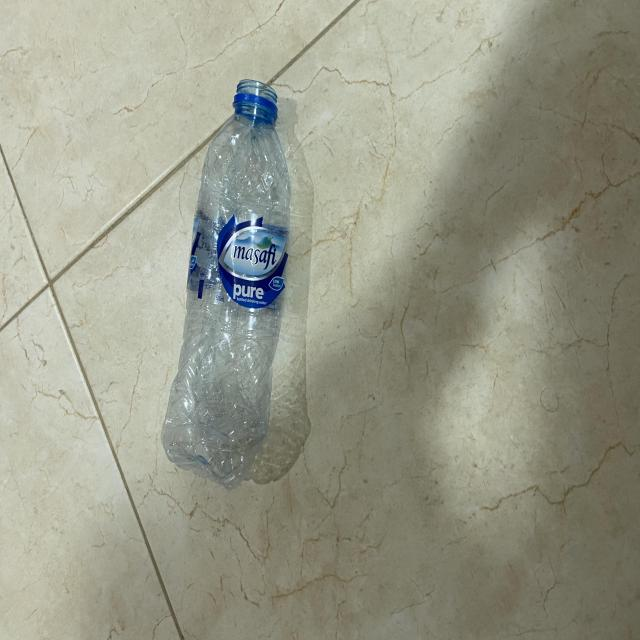plastic: (164, 78, 294, 493)
